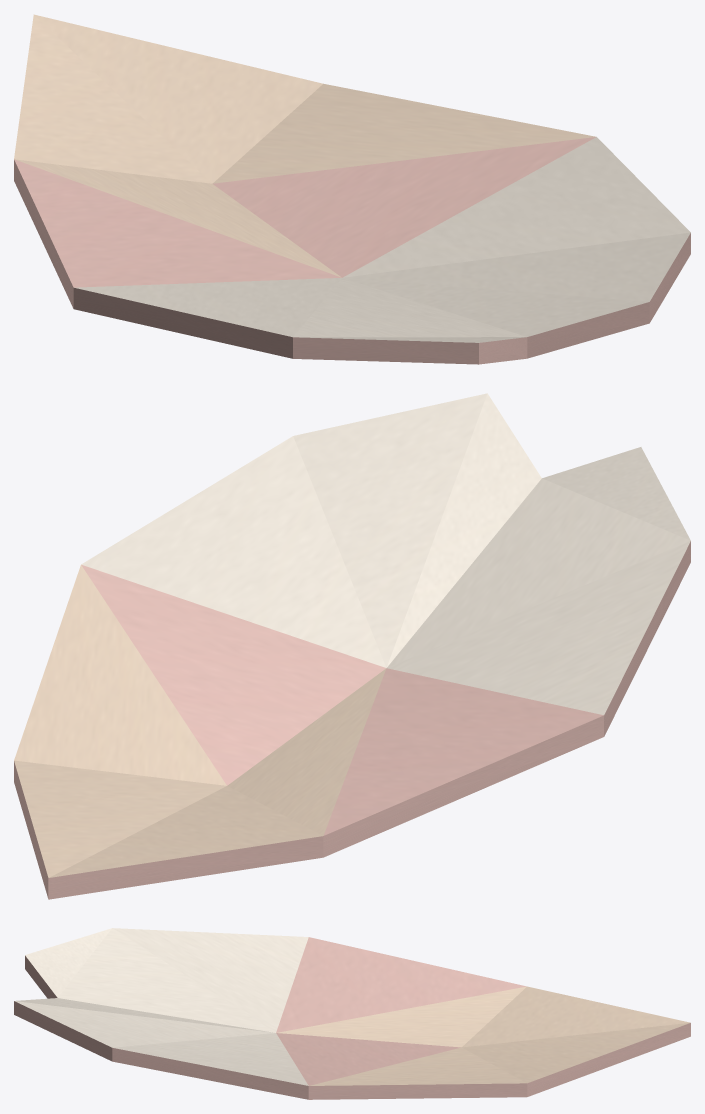
The model's file is 08_floating_petal_C.obj.
3 renders of one model, top to bottom at view 1: azimuth 30°, elevation 25°; view 2: azimuth 150°, elevation 25°; view 3: azimuth 270°, elevation 25°, orthographic. The views are drawn at different scales.
Visible parts, largest first — view 1: Floating_Petal_C; view 2: Floating_Petal_C; view 3: Floating_Petal_C.
Boxes of the visible parts, x1,y1,x2,y2 form: Floating_Petal_C: (14, 14, 690, 364); Floating_Petal_C: (14, 393, 690, 899); Floating_Petal_C: (14, 928, 690, 1099).
Size of the model in its own units: 0.071 by 0.0178 by 0.124.
Materials: 1 (1 with a texture image).
